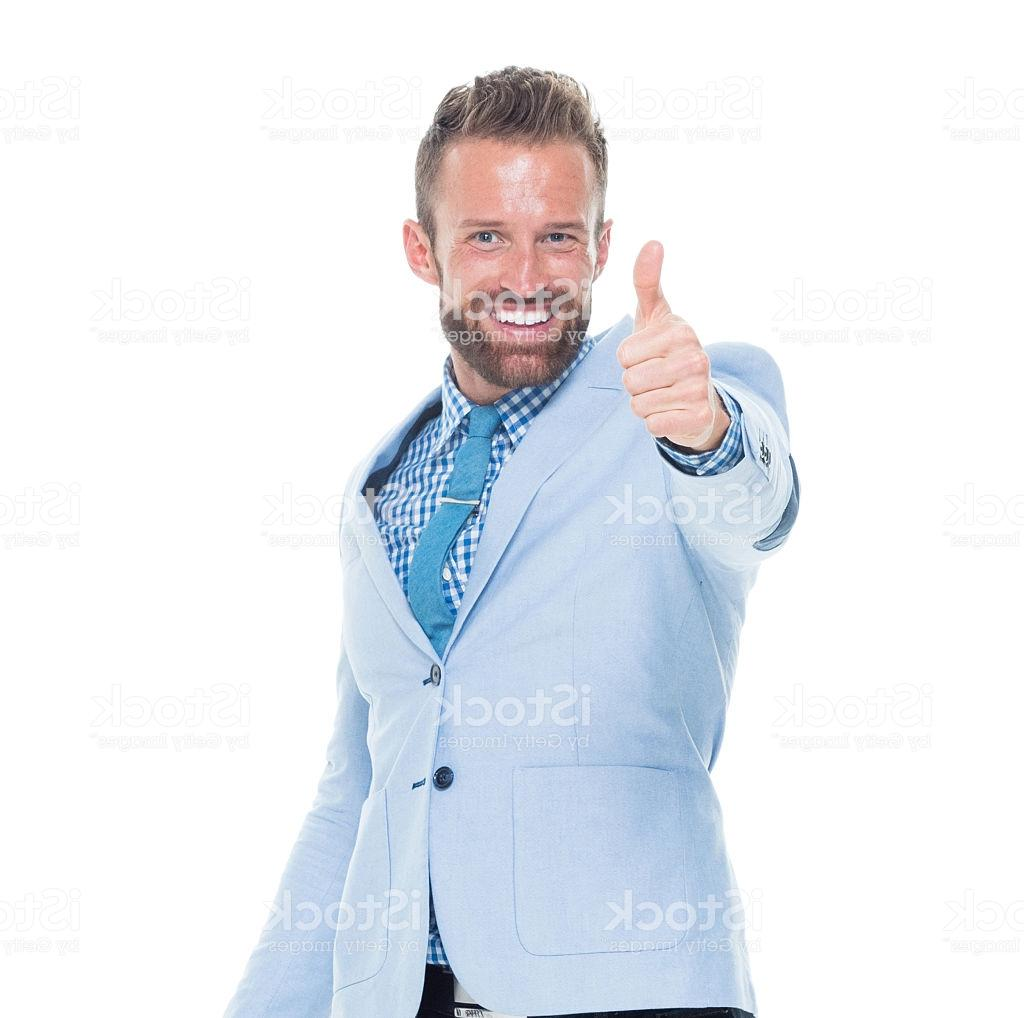thumbsup: (617, 237, 719, 449)
